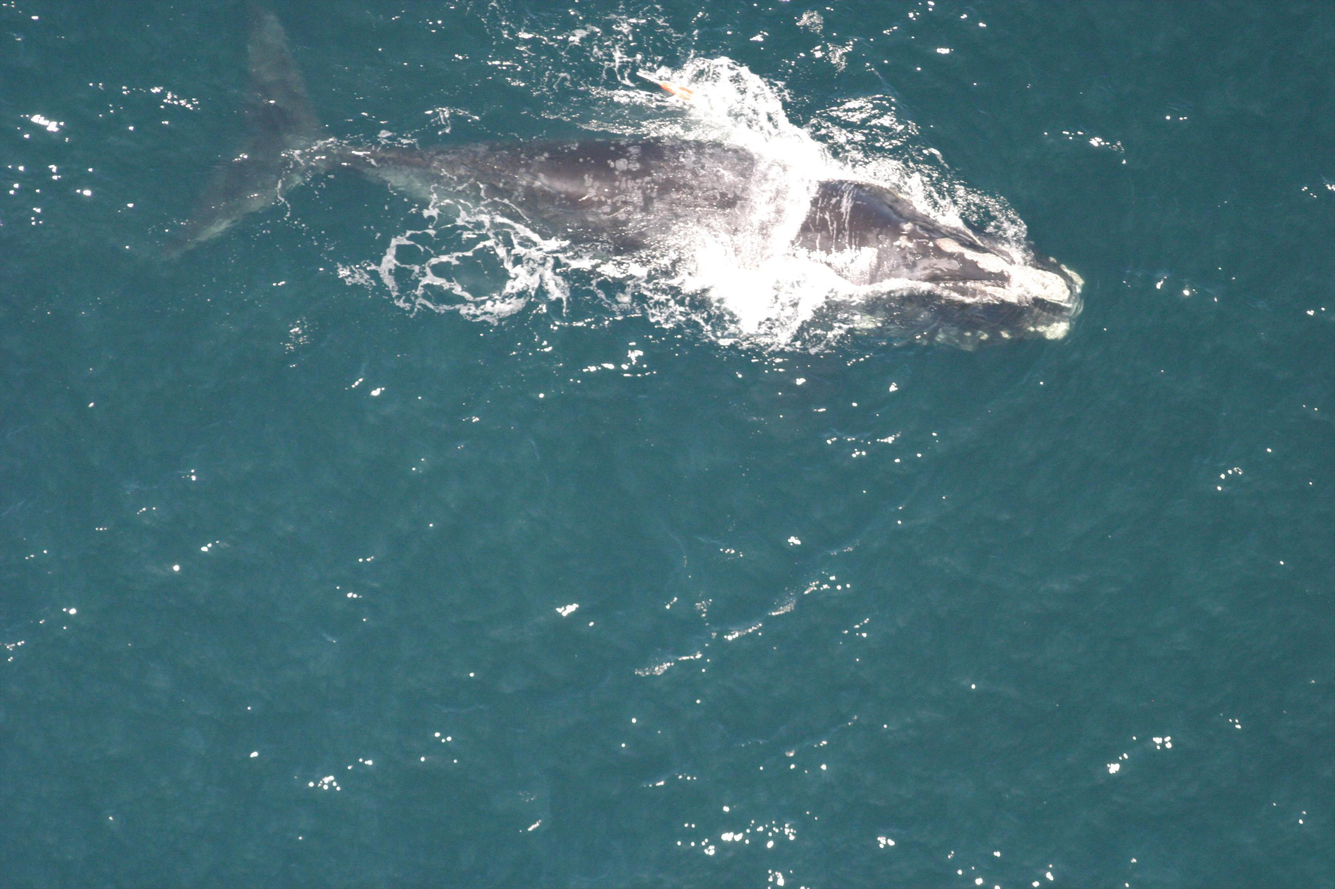whale: (136, 0, 1092, 363)
